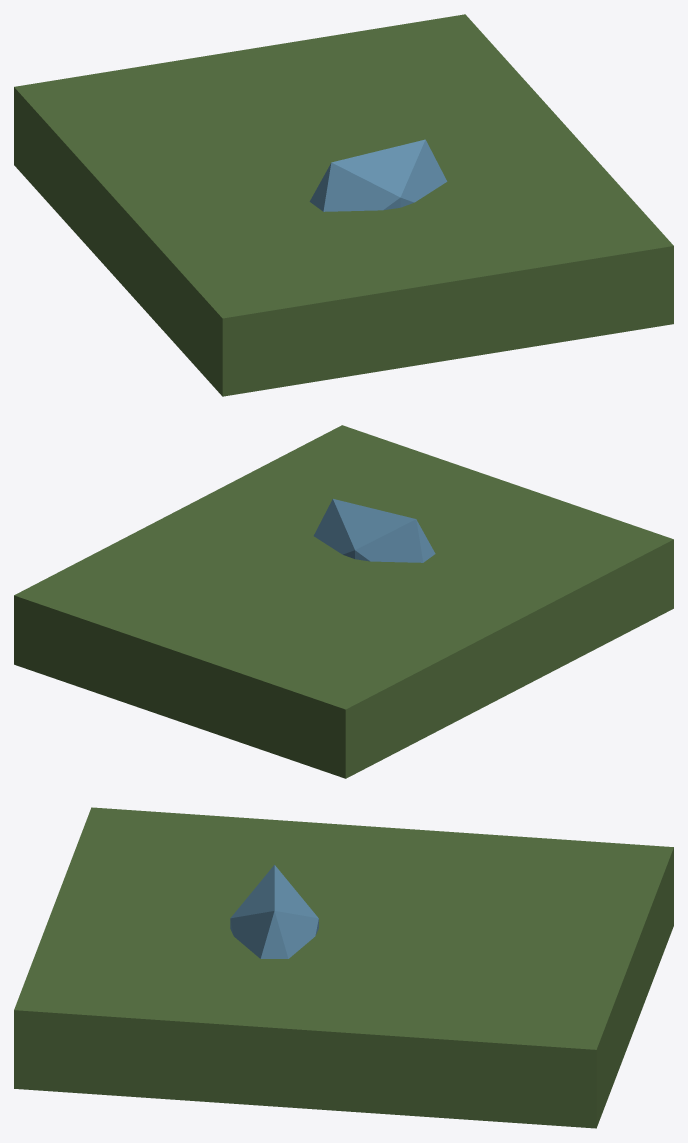
The model's file is off_03_thorn_aegis.glb.
The picture shows the model from 3 angles, top to bottom: view 1: azimuth 30°, elevation 25°; view 2: azimuth 150°, elevation 25°; view 3: azimuth 270°, elevation 25°; orthographic projection. The views are drawn at different scales.
Parts seen in each view (by area): view 1: shield, shield_boss; view 2: shield, shield_boss; view 3: shield, shield_boss.
Boxes of the visible parts, x1,y1,x2,y2 form: shield: (14,14,673,396); shield_boss: (309,139,447,211); shield: (14,425,673,778); shield_boss: (313,499,435,562); shield: (14,807,673,1128); shield_boss: (230,865,318,958).
Bounding box in the file's own units: 0.6612 × 0.2042 × 0.7605.
